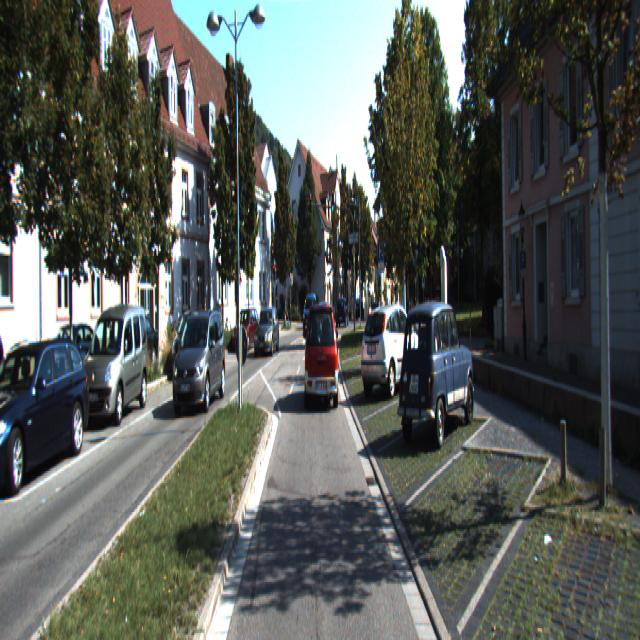Car: (0, 333, 89, 499), (396, 300, 477, 456), (80, 306, 149, 432), (170, 311, 227, 418), (360, 302, 424, 396), (306, 306, 340, 412), (108, 312, 160, 380), (171, 308, 214, 378), (252, 307, 280, 356), (231, 310, 261, 354), (302, 293, 316, 329), (336, 297, 349, 327)
